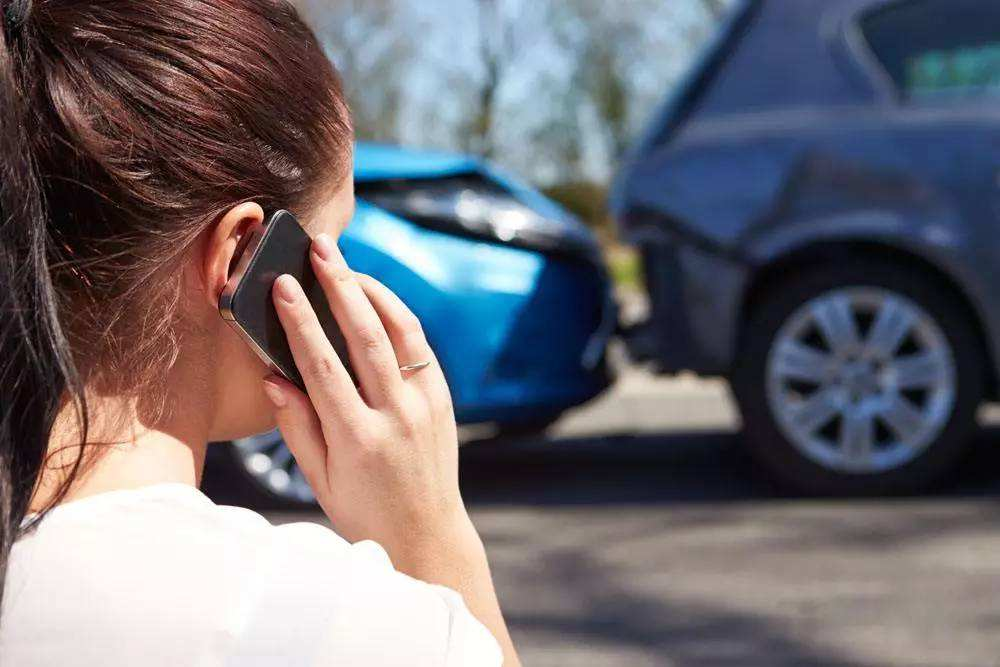calling: (214, 203, 464, 533)
